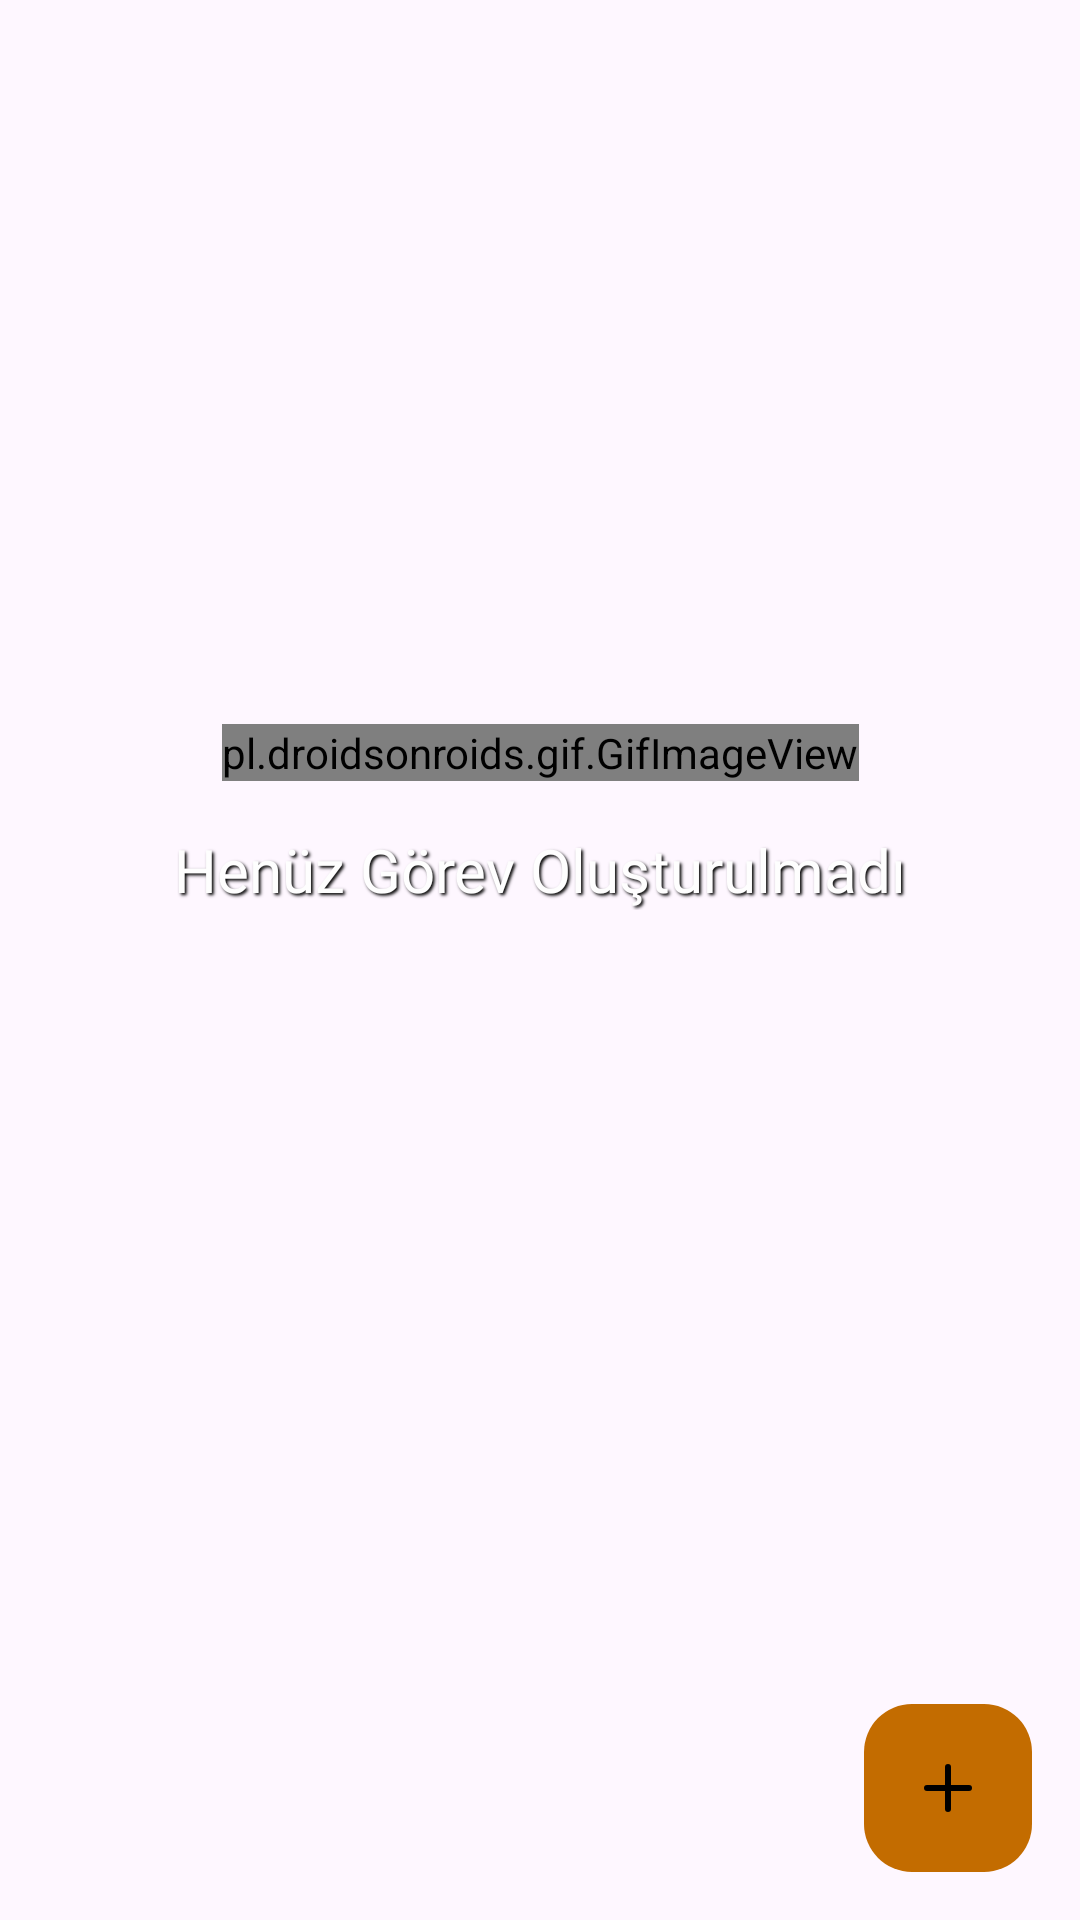

Named icons in this screenshot (1080 × 1920) and their bounding boxes, [x1=x1, y1=y1, x2=x2, y2=y2]:
ekle: [x1=864, y1=1704, x2=1032, y2=1872]
